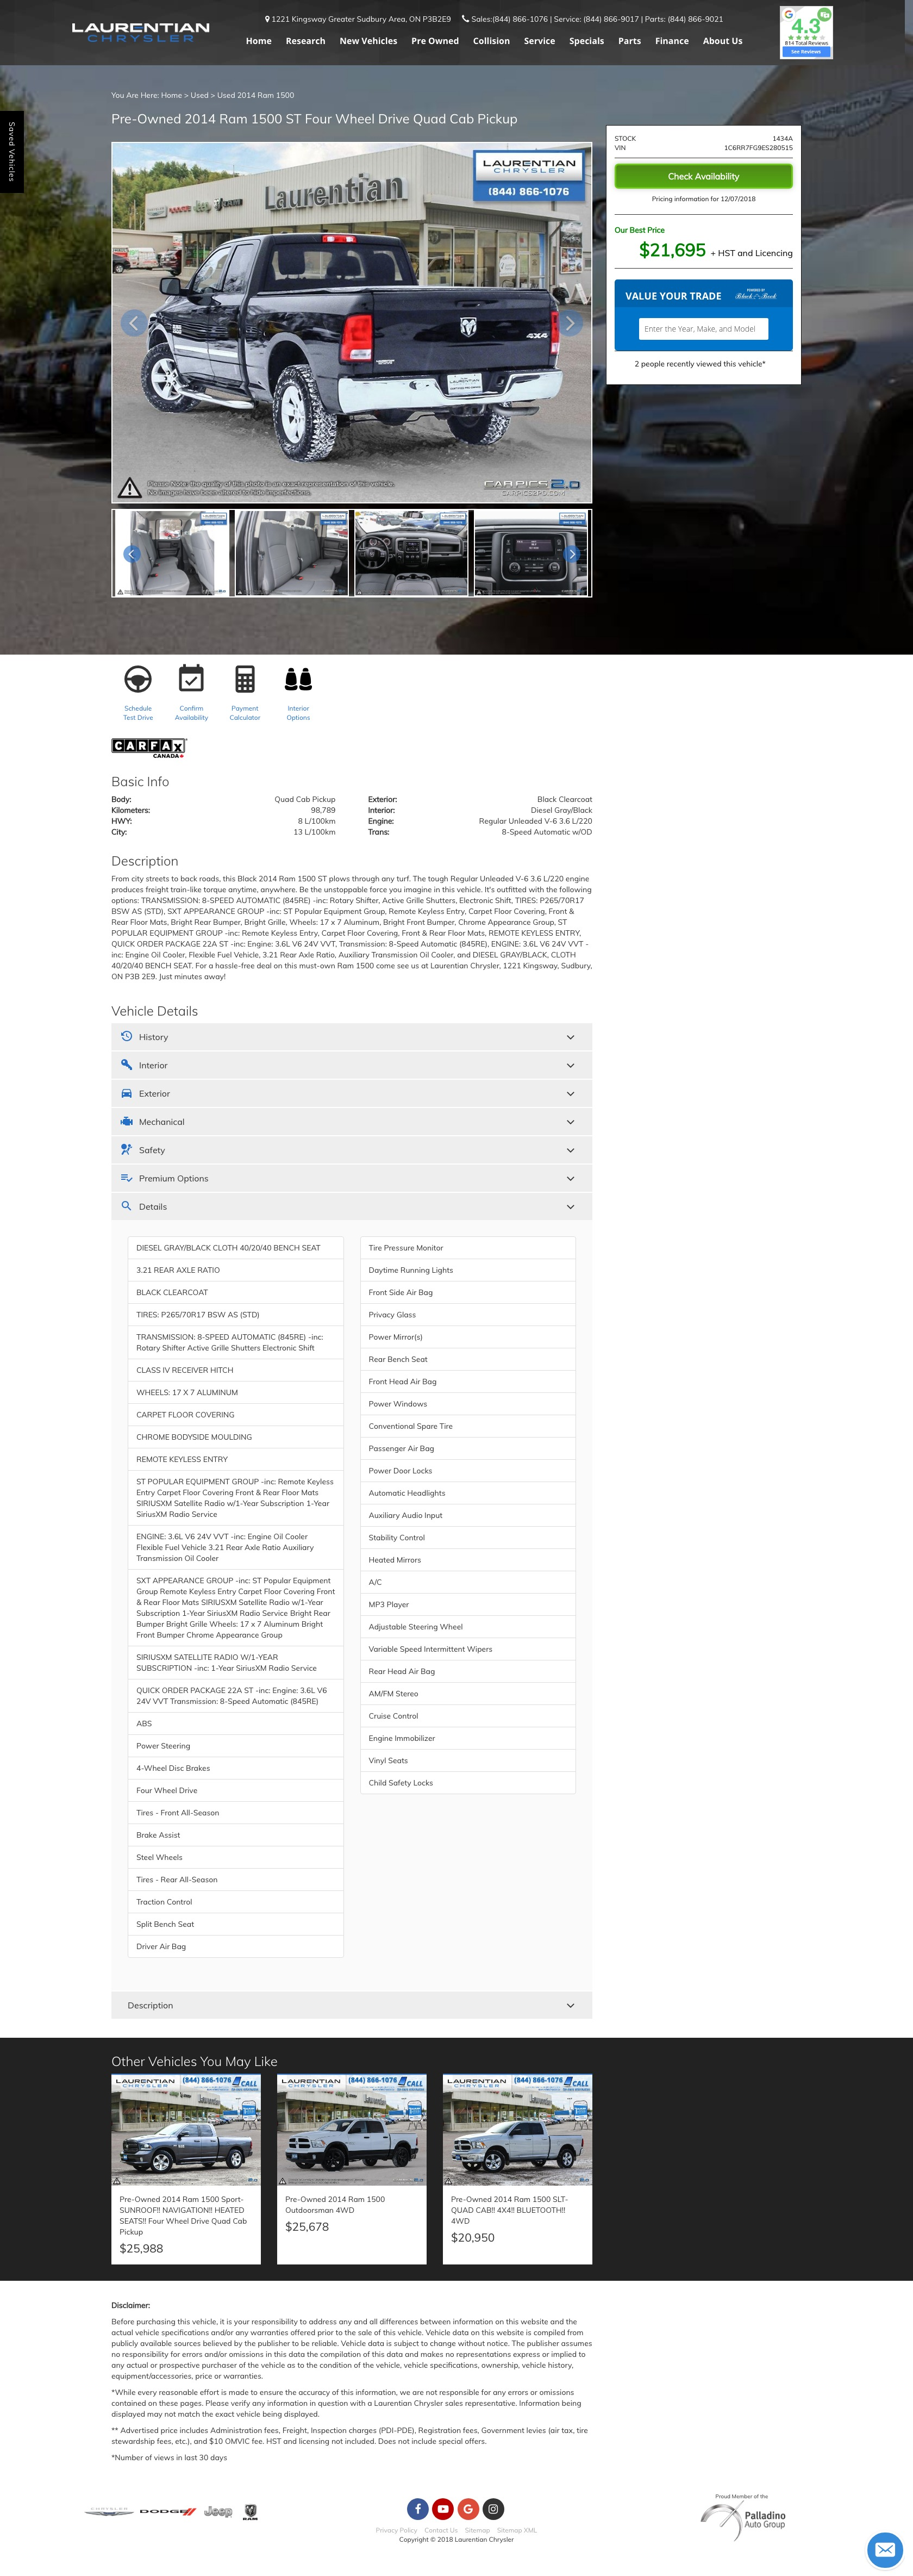car: (562, 545, 583, 565)
